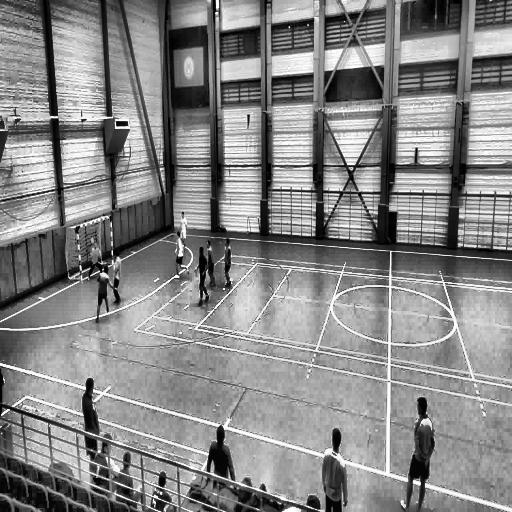ball: (88, 232, 95, 245)
player: (398, 395, 433, 511), (323, 427, 348, 512), (83, 380, 100, 472), (95, 263, 114, 323), (196, 244, 209, 306), (88, 240, 103, 281), (112, 248, 122, 304), (178, 209, 190, 251), (175, 231, 185, 281), (224, 238, 232, 289)
